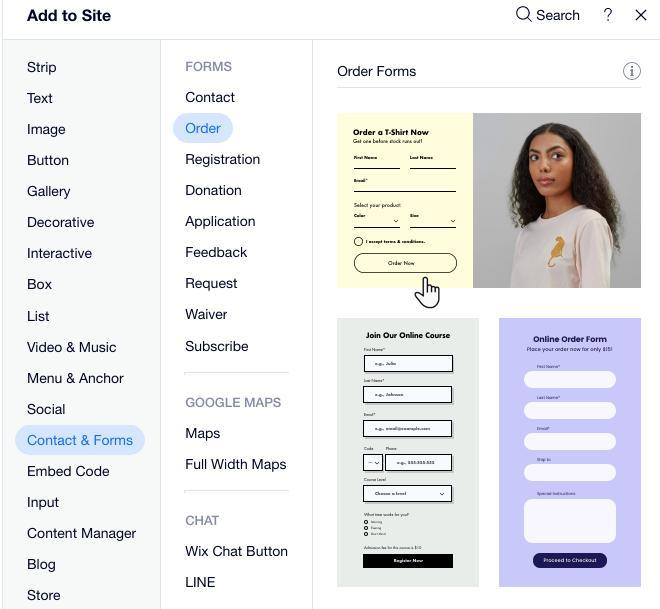button: (18, 426, 146, 456), (355, 254, 460, 274), (173, 113, 235, 143), (364, 555, 454, 570), (535, 553, 608, 570)
checkbox: (354, 237, 366, 248)
dropdown: (364, 486, 453, 503), (365, 455, 384, 472)
icon: (623, 60, 643, 83), (513, 6, 535, 26), (603, 6, 618, 27), (634, 9, 649, 26)
input: (524, 433, 618, 452), (525, 464, 618, 483), (365, 386, 453, 405), (526, 403, 618, 421), (366, 356, 454, 374), (526, 372, 617, 389), (364, 421, 453, 437), (386, 455, 453, 472)
label: (186, 453, 290, 473), (25, 7, 115, 28), (26, 370, 126, 388), (27, 528, 139, 543), (186, 395, 284, 412), (181, 213, 264, 233), (25, 341, 120, 358), (188, 546, 287, 562), (186, 149, 265, 169), (180, 180, 243, 202), (336, 63, 422, 79), (25, 466, 114, 481), (28, 213, 96, 232), (26, 246, 99, 263), (185, 242, 246, 261), (185, 306, 233, 330), (365, 332, 455, 343), (25, 555, 64, 580), (23, 119, 74, 138), (351, 127, 431, 139), (185, 90, 243, 105), (186, 343, 251, 356), (29, 153, 72, 172), (24, 401, 69, 419), (183, 278, 237, 293), (22, 493, 66, 511), (533, 335, 610, 345), (22, 58, 64, 76), (183, 61, 236, 75), (29, 183, 72, 200), (538, 9, 582, 25), (23, 89, 61, 106), (365, 238, 428, 248), (185, 513, 222, 529), (183, 576, 217, 593), (187, 429, 223, 444), (26, 277, 55, 295), (28, 589, 62, 604), (27, 309, 55, 326), (354, 203, 405, 210), (538, 493, 579, 498), (411, 154, 436, 161), (364, 478, 393, 484), (364, 378, 387, 385), (362, 347, 388, 353), (539, 395, 565, 401), (537, 365, 565, 370), (355, 157, 381, 161), (385, 446, 399, 453), (538, 458, 554, 464), (537, 426, 552, 432), (364, 412, 378, 417), (365, 448, 377, 452)
